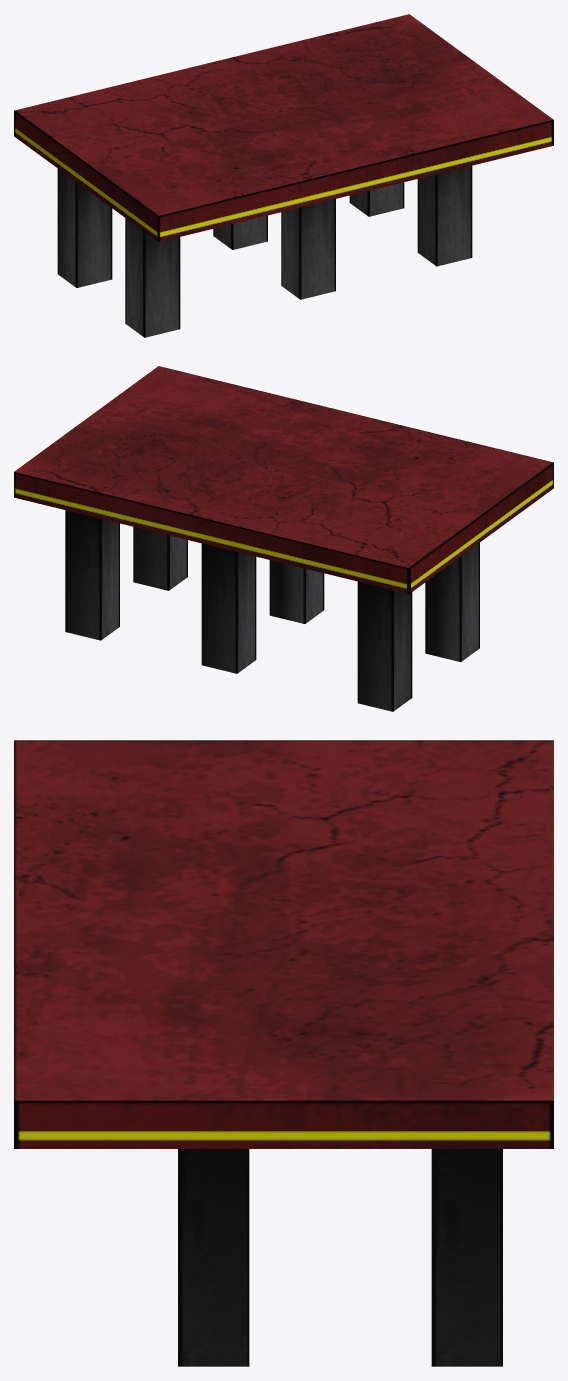
Rendered from reststop.FBX.
3 renders of one model, top to bottom at view 1: azimuth 30°, elevation 25°; view 2: azimuth 150°, elevation 25°; view 3: azimuth 270°, elevation 25°, orthographic. The views are drawn at different scales.
Parts seen in each view (by area): view 1: reststop; view 2: reststop; view 3: reststop.
Boxes of the visible parts, box(x1,y1,x2,y2) form: reststop: box(14, 14, 553, 337); reststop: box(14, 366, 553, 711); reststop: box(14, 740, 553, 1366).
Bounding box in the file's own units: 1273 × 495 × 806.
